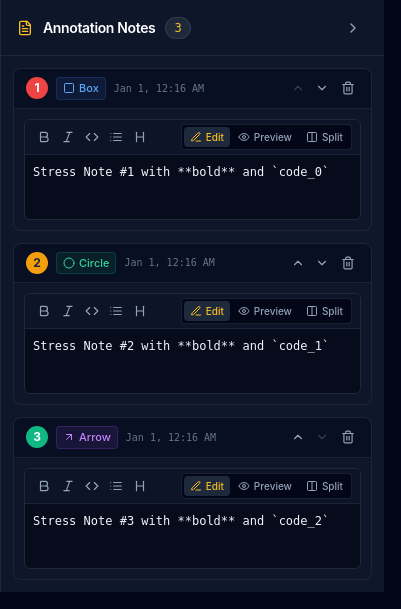
Milestone 4 Challenger 1: Sidebar Reordering, Deletion & 1..N Sequence Invariant Stress Suite › Suite 6: Component-Level RTL Integration & Interactive Reordering › C6.3: Interactively deletes middle item and verifies DOM renumbering
// Delete item 2 (stress_ann_1)
Click the button with test id "note-card-delete-2" at (348, 263), box [337,252,359,274]
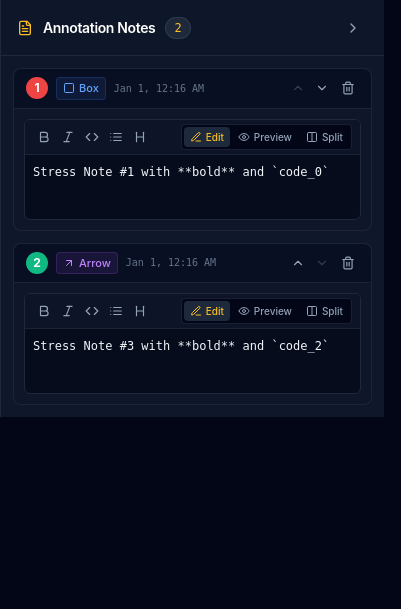
Now the text with test id "sidebar-count-badge" reads "2", box [174,20,182,34]
Now the element with test id "note-card-stress_ann_1" is gone
Now the text with test id "card-badge-stress_ann_2" reads "2", box [33,255,41,270]
